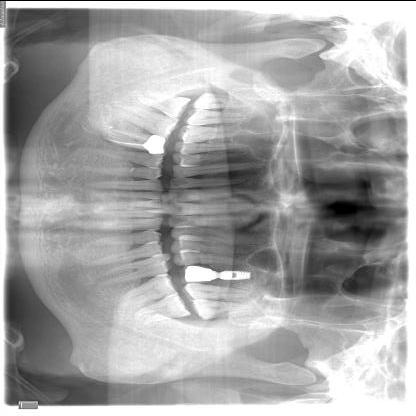Bicon: (217, 264, 254, 284)
